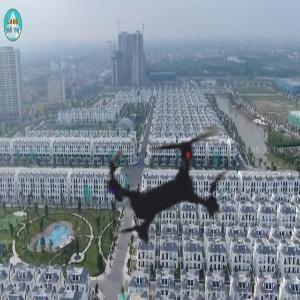drone: (55, 74, 276, 295)
